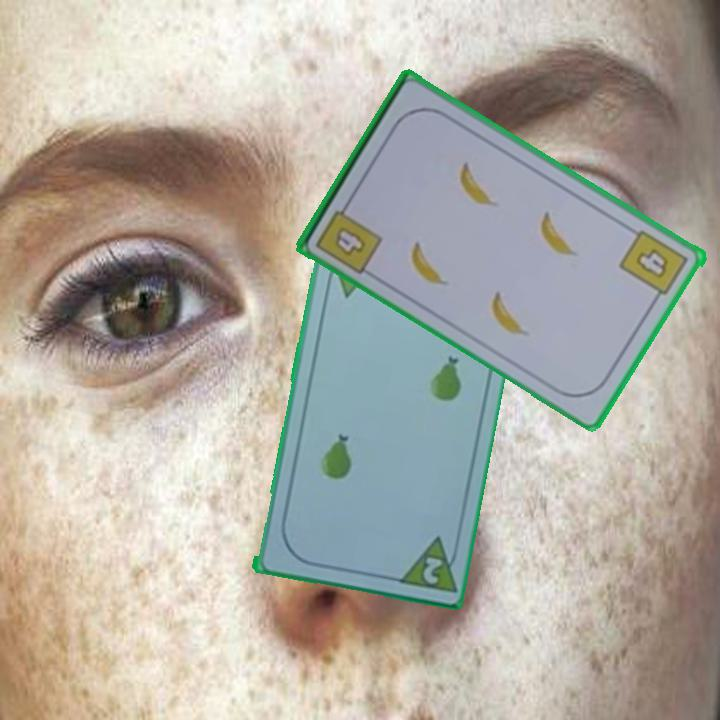2p: (391, 531, 462, 595)
4b: (616, 226, 692, 306), (331, 222, 370, 259)
